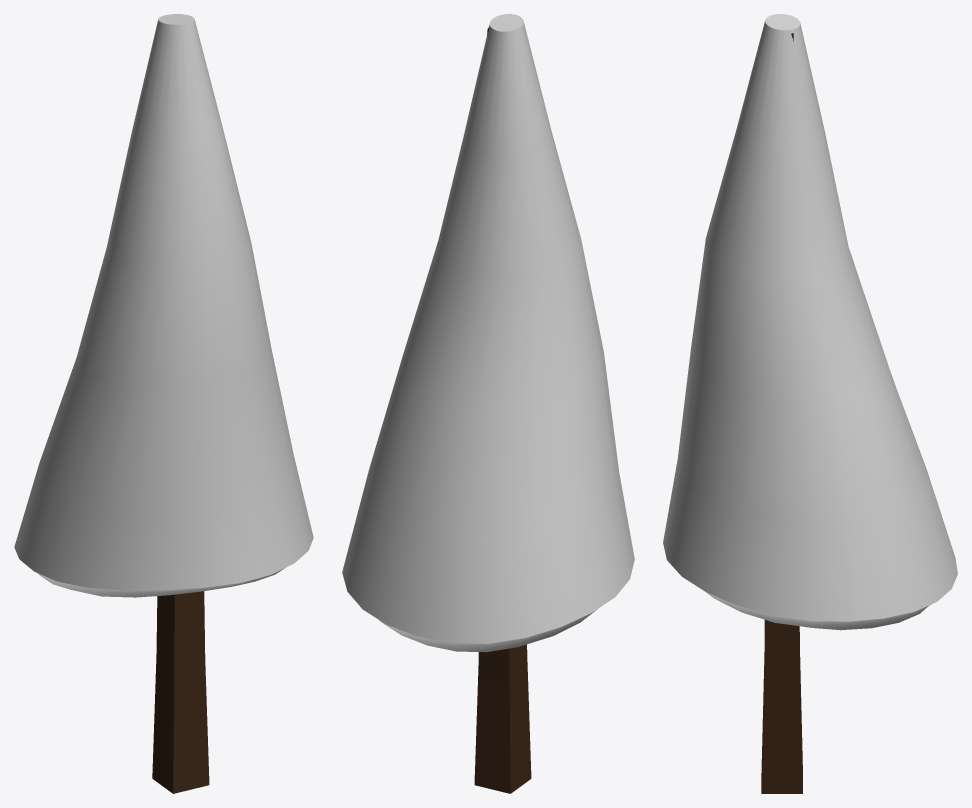
The model's file is Coni_Tree8.fbx.
3 renders of one model, left to right at view 1: azimuth 30°, elevation 25°; view 2: azimuth 150°, elevation 25°; view 3: azimuth 270°, elevation 25°, orthographic.
Parts seen in each view (by area): view 1: Coni_Tree8_Leaves, Coni_Tree8; view 2: Coni_Tree8_Leaves, Coni_Tree8; view 3: Coni_Tree8_Leaves, Coni_Tree8.
Boxes of the visible parts, x1,y1,x2,y2 form: Coni_Tree8_Leaves: (14,14,313,597); Coni_Tree8: (152,591,209,793); Coni_Tree8_Leaves: (342,14,634,652); Coni_Tree8: (474,27,531,793); Coni_Tree8_Leaves: (663,14,957,630); Coni_Tree8: (761,33,802,793).
Size of the model in its own units: 83.8 by 238 by 83.52.
